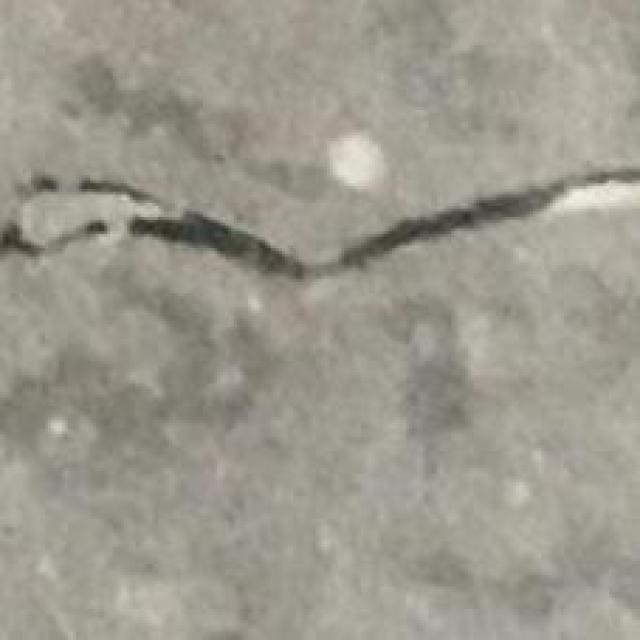Annular: (12, 151, 311, 298)
Transverse: (312, 143, 640, 286)
